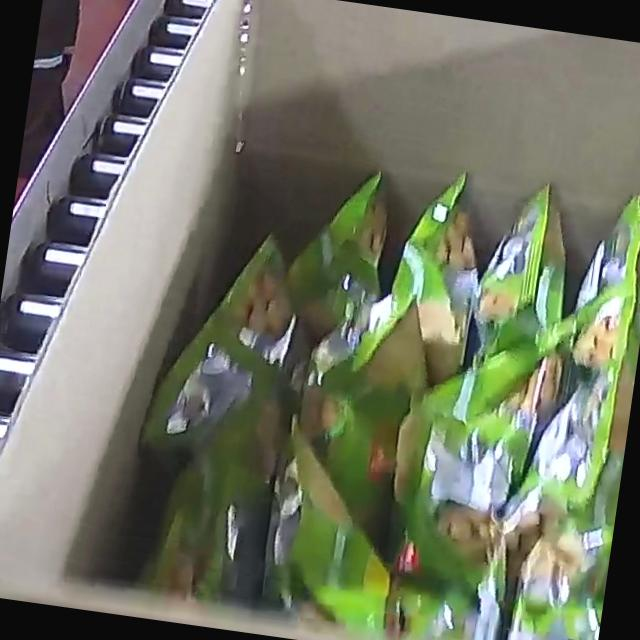yogurt: (112, 122, 640, 640)
